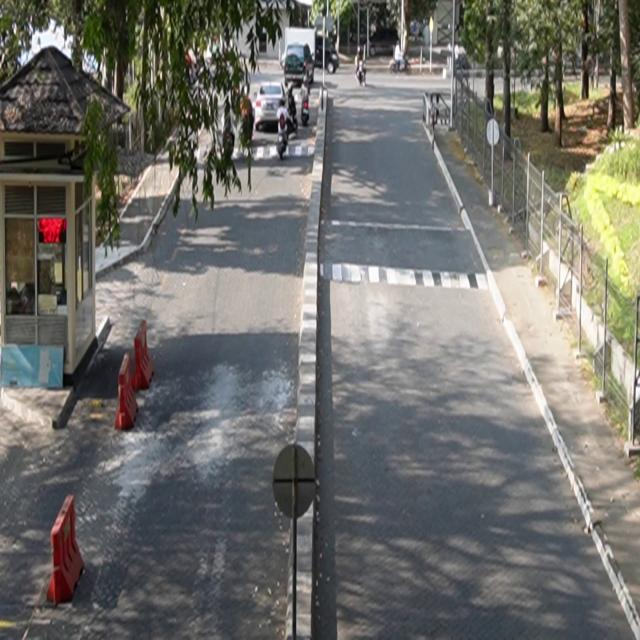car: (255, 82, 287, 133)
